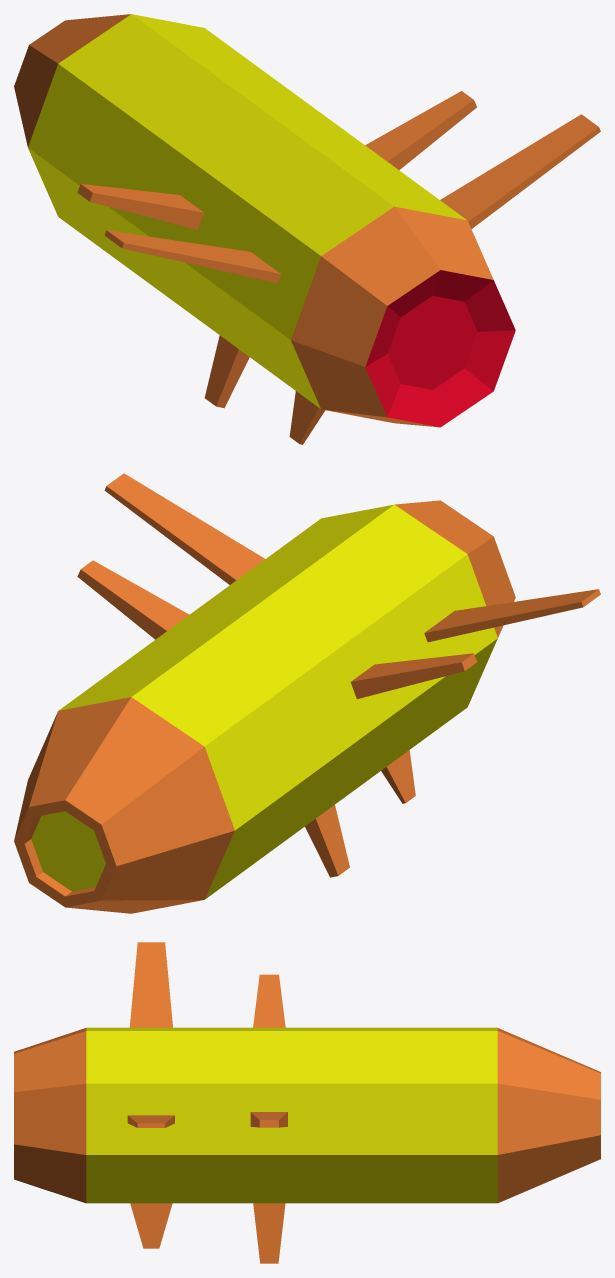
Rendered from missile.glb.
3 views of the same model, one above another, from view 1: azimuth 30°, elevation 25°; view 2: azimuth 150°, elevation 25°; view 3: azimuth 270°, elevation 25° (orthographic). The views are drawn at different scales.
Visible parts, largest first — view 1: Missle; view 2: Missle; view 3: Missle.
Part boxes in pixels (box(x1,y1,x2,y2)): Missle: box(14, 14, 600, 444); Missle: box(14, 473, 600, 913); Missle: box(14, 942, 600, 1263).
Bounding box in the file's own units: 0.1948 × 0.1044 × 0.2644.
